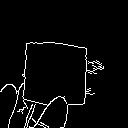cube: (22, 37, 89, 112)
